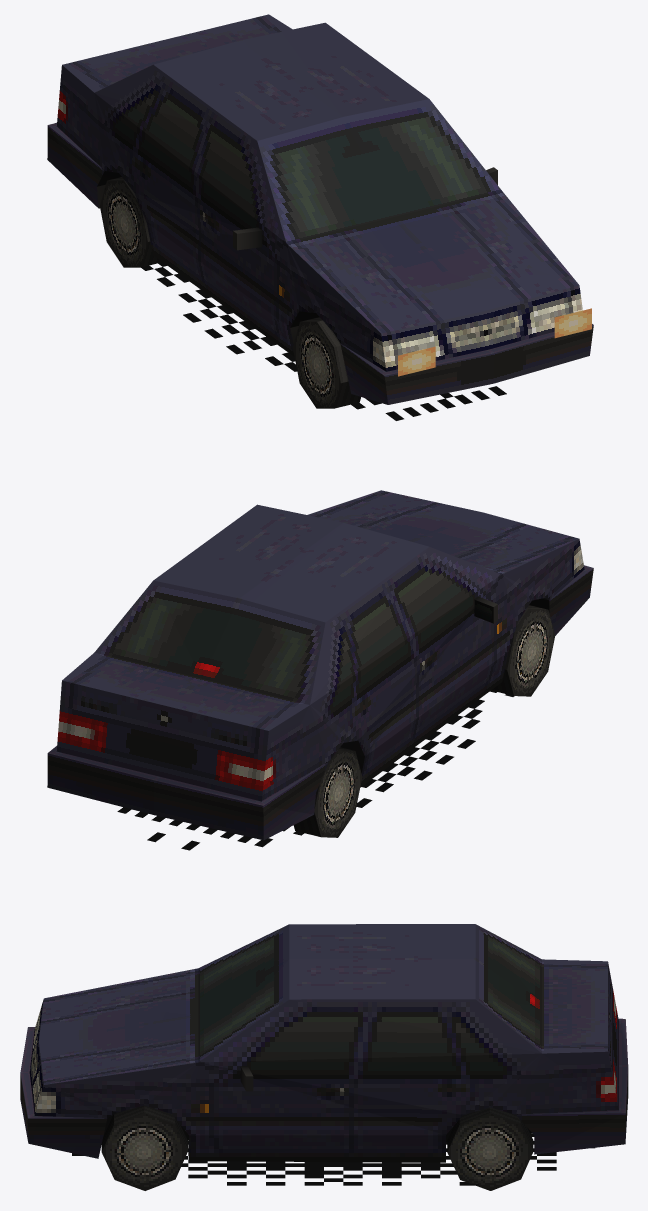
Rendered from sedan.glb.
3 renders of one model, top to bottom at view 1: azimuth 30°, elevation 25°; view 2: azimuth 150°, elevation 25°; view 3: azimuth 270°, elevation 25°, orthographic. The views are drawn at different scales.
Parts seen in each view (by area): view 1: Body, BlobShadow, Headlight_1, Headlight_-1; view 2: Body, BlobShadow; view 3: Body, BlobShadow.
Part boxes in pixels (x1,y1,x2,y2): Body: (47, 14, 593, 408); BlobShadow: (141, 262, 506, 420); Headlight_1: (554, 308, 591, 338); Headlight_-1: (398, 346, 435, 376); Body: (47, 490, 593, 840); BlobShadow: (117, 690, 514, 850); Body: (20, 924, 628, 1190); BlobShadow: (72, 1133, 594, 1185).
Size of what is drawn, in the model's own units: 2.19 by 1.58 by 4.8.
Materials: 3 (3 with a texture image).
